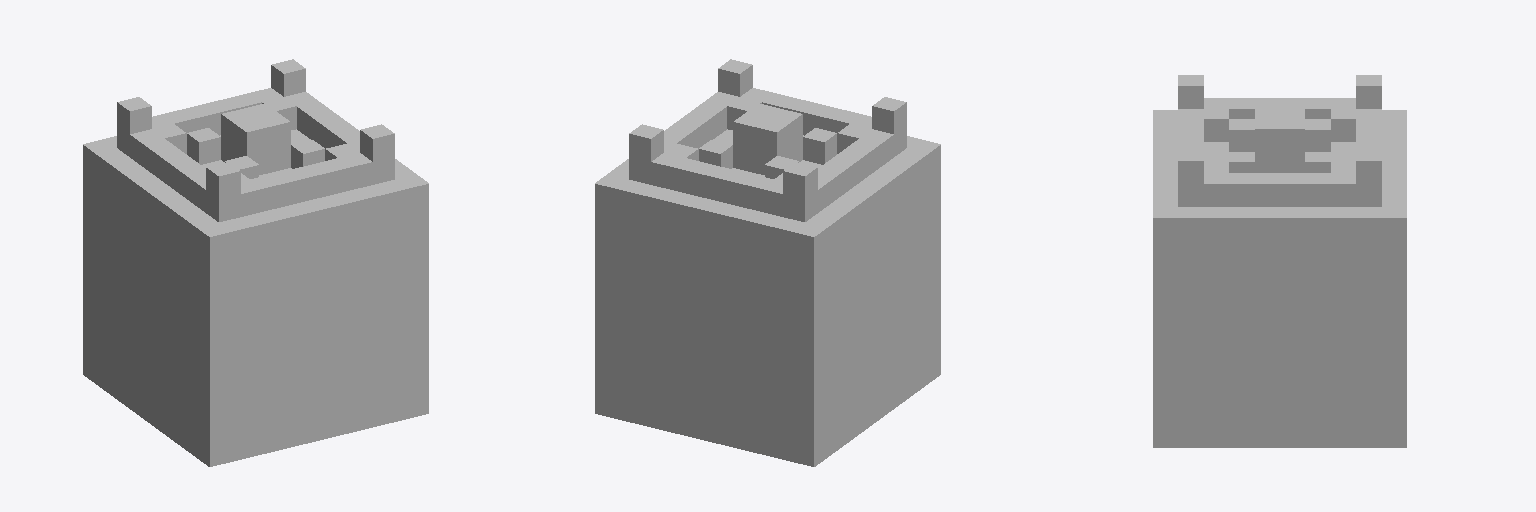
The model's file is Boss.obj.
3 views of the same model, side by side, from view 1: azimuth 30°, elevation 25°; view 2: azimuth 150°, elevation 25°; view 3: azimuth 270°, elevation 25° (orthographic).
Visible parts, largest first — view 1: object 1; view 2: object 1; view 3: object 1.
Part boxes in pixels (x1,y1,x2,y2): object 1: (83, 59, 428, 466); object 1: (595, 59, 940, 466); object 1: (1153, 75, 1406, 447).
Bounding box in the file's own units: 1 × 1.2 × 1.